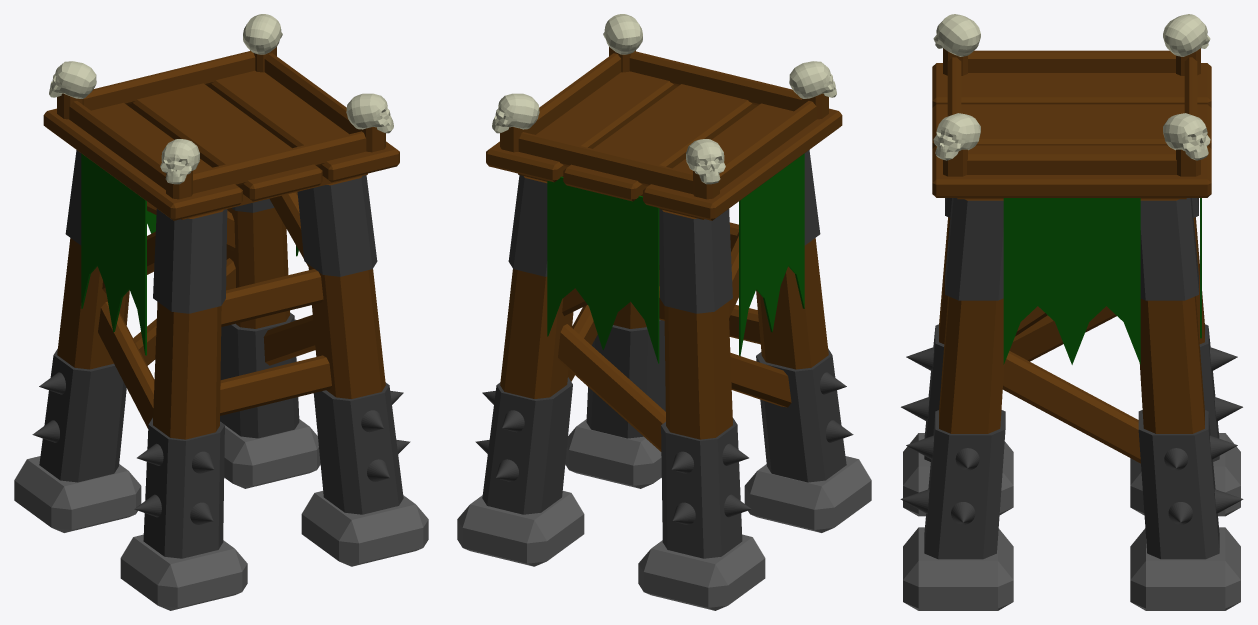
The model's file is GoblinTower3.fbx.
3 views of the same model, side by side, from view 1: azimuth 30°, elevation 25°; view 2: azimuth 150°, elevation 25°; view 3: azimuth 270°, elevation 25° (orthographic). The views are drawn at different scales.
Visible parts, largest first — view 1: Cube.002; view 2: Cube.002; view 3: Cube.002.
Boxes of the visible parts, x1=… form: Cube.002: x1=14, y1=14, x2=428, y2=610; Cube.002: x1=457, y1=14, x2=871, y2=610; Cube.002: x1=900, y1=14, x2=1243, y2=610.
Bounding box in the file's own units: 3.13 × 4.86 × 3.15.
